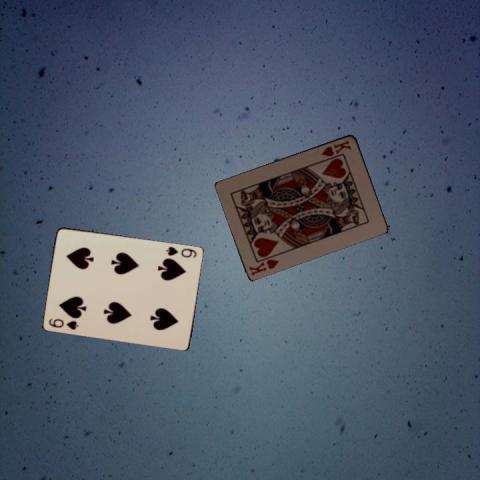6s: (163, 243, 198, 259), (46, 316, 80, 332)
Kh: (246, 255, 280, 277), (318, 137, 352, 157)
